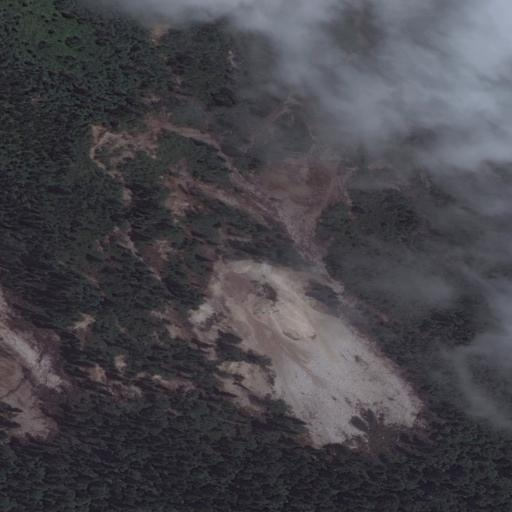landslide: (187, 255, 422, 459), (2, 294, 65, 449)
